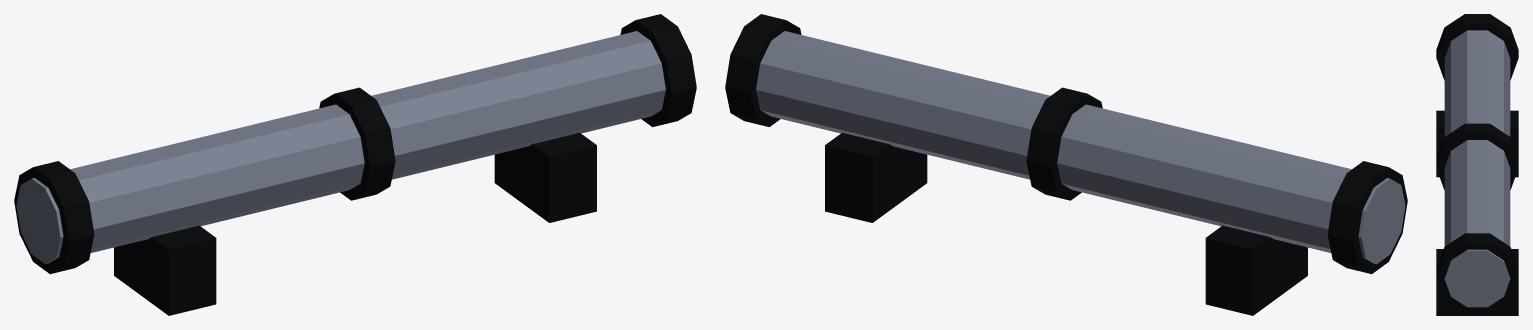
The model's file is pipe_straight.obj.
3 renders of one model, left to right at view 1: azimuth 30°, elevation 25°; view 2: azimuth 150°, elevation 25°; view 3: azimuth 270°, elevation 25°, orthographic. The views are drawn at different scales.
Visible parts, largest first — view 1: pipe_straight; view 2: pipe_straight; view 3: pipe_straight.
Part boxes in pixels (x1,y1,x2,y2): pipe_straight: [14, 14, 696, 315]; pipe_straight: [725, 14, 1407, 315]; pipe_straight: [1436, 14, 1518, 315].
Size of the model in its own units: 2 by 0.4427 by 0.3.
